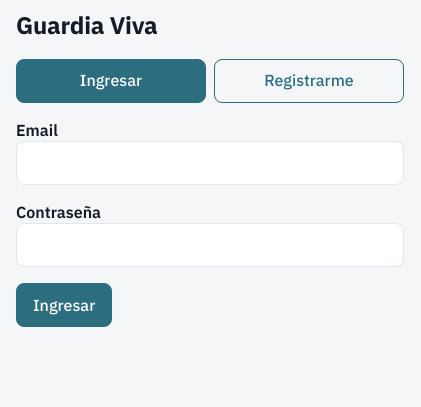
Acceso › muestra el error de ingreso en un alert
The image size is (421, 407).
Type "ana@x.com" into the field labelled "Email" at (210, 163), box 16,141 -> 404,185
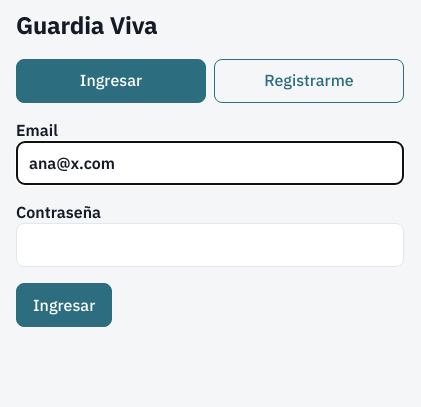
Type "mala" into the password field labelled "Contraseña" at (210, 245), box 16,223 -> 404,267
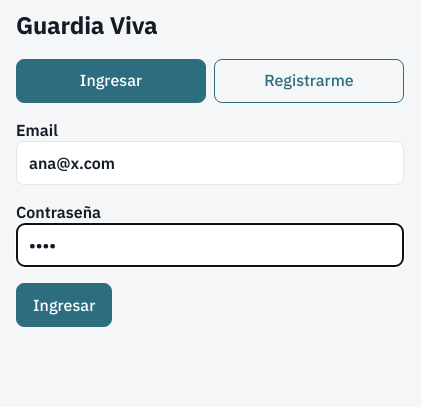
Click the button "Ingresar" at (64, 305), box 16,283 -> 112,327
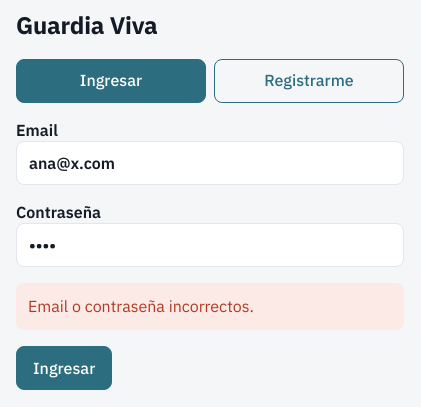
Expected: the message reads "Email o contraseña incorrectos.", 28,296 -> 254,316
